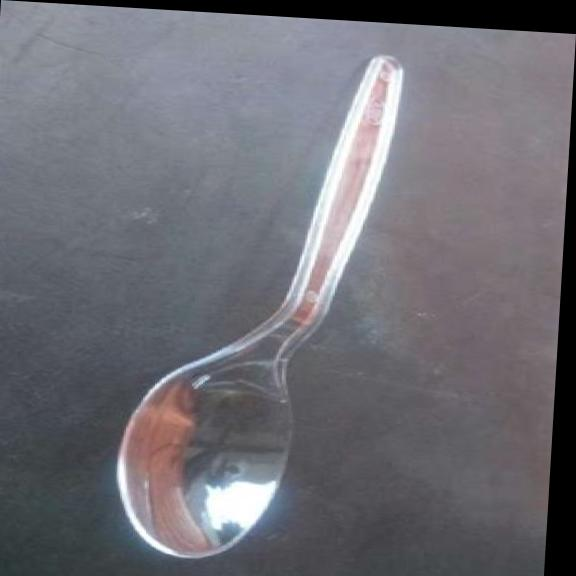Plastik: (116, 55, 401, 558)
